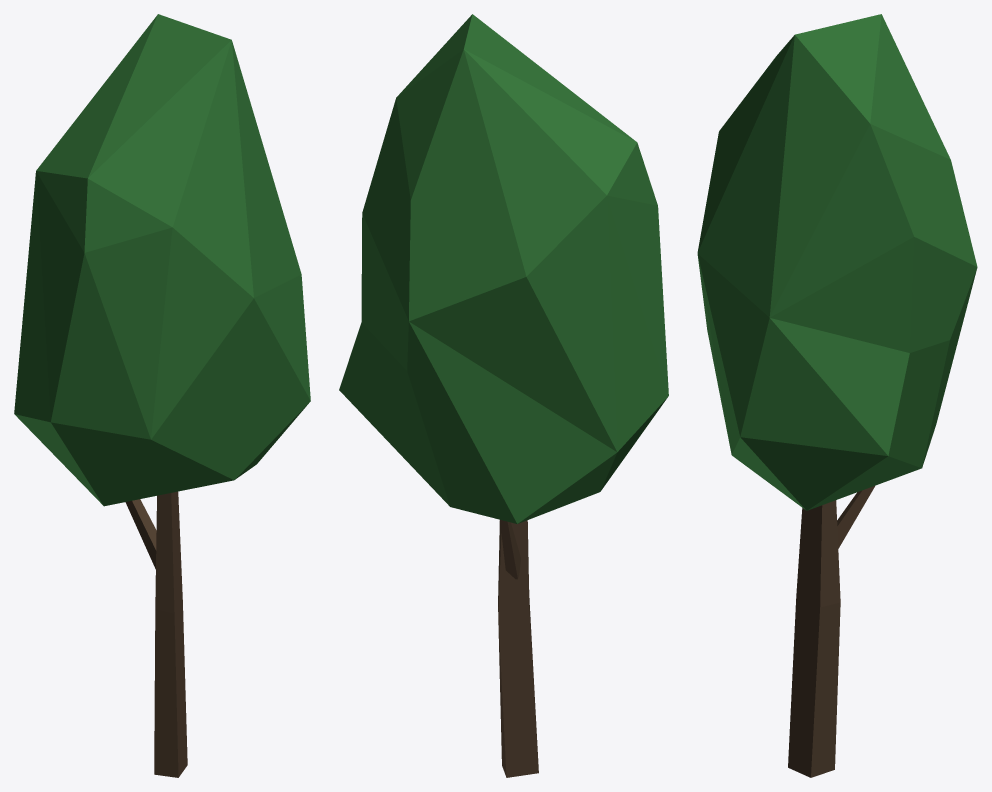
File: nature_tree-simple.fbx
3 views of the same model, side by side, from view 1: azimuth 30°, elevation 25°; view 2: azimuth 150°, elevation 25°; view 3: azimuth 270°, elevation 25° (orthographic). The views are drawn at different scales.
Parts seen in each view (by area): view 1: nature_tree_simple; view 2: nature_tree_simple; view 3: nature_tree_simple.
Boxes of the visible parts, box(x1,y1,x2,y2) form: nature_tree_simple: box(14, 14, 310, 777); nature_tree_simple: box(339, 14, 668, 777); nature_tree_simple: box(697, 14, 977, 777).
Size of the model in its own units: 78.81 by 200 by 66.26.
